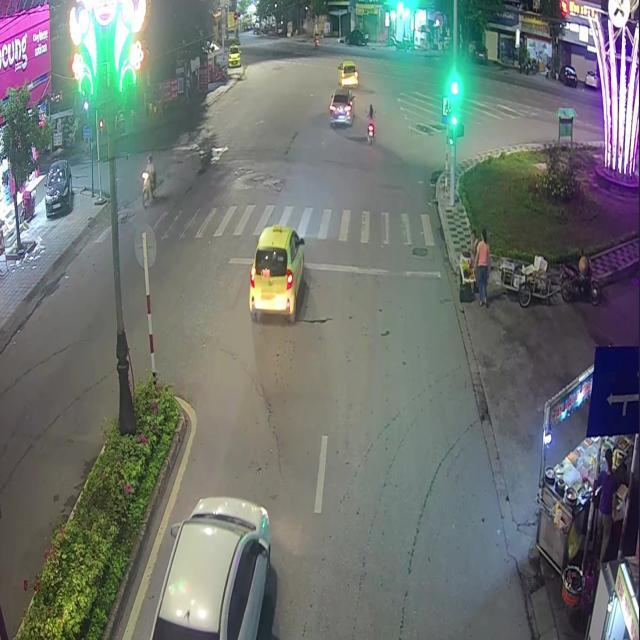car: (150, 496, 270, 638), (248, 223, 304, 321), (328, 90, 353, 125), (337, 59, 358, 87)
green_light: (450, 92, 457, 125)
motobike: (366, 121, 374, 143)
stop_line: (226, 256, 440, 277)
